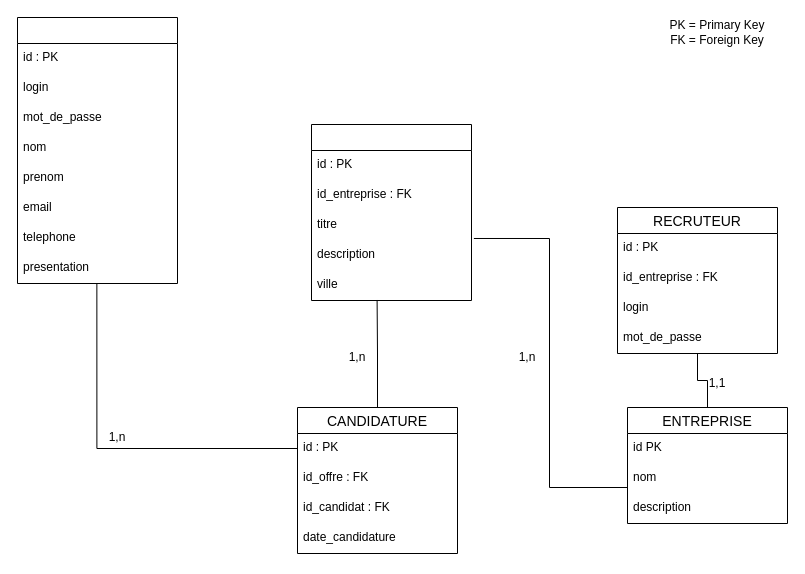
The diagram is 805 pixels wide and 574 high, and some of its shapes have lost their labels. The box of each missing label's shape, as (x1, y1, x2, y2) in pixels:
CANDIDAT: (16, 16, 178, 284)
OFFRE: (310, 124, 472, 300)
